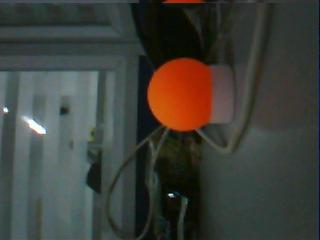oball: (148, 58, 211, 131)
